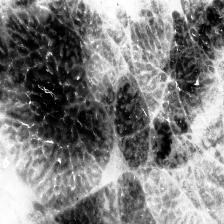Benign Marking or Mole: (0, 23, 112, 210), (115, 82, 152, 166)
